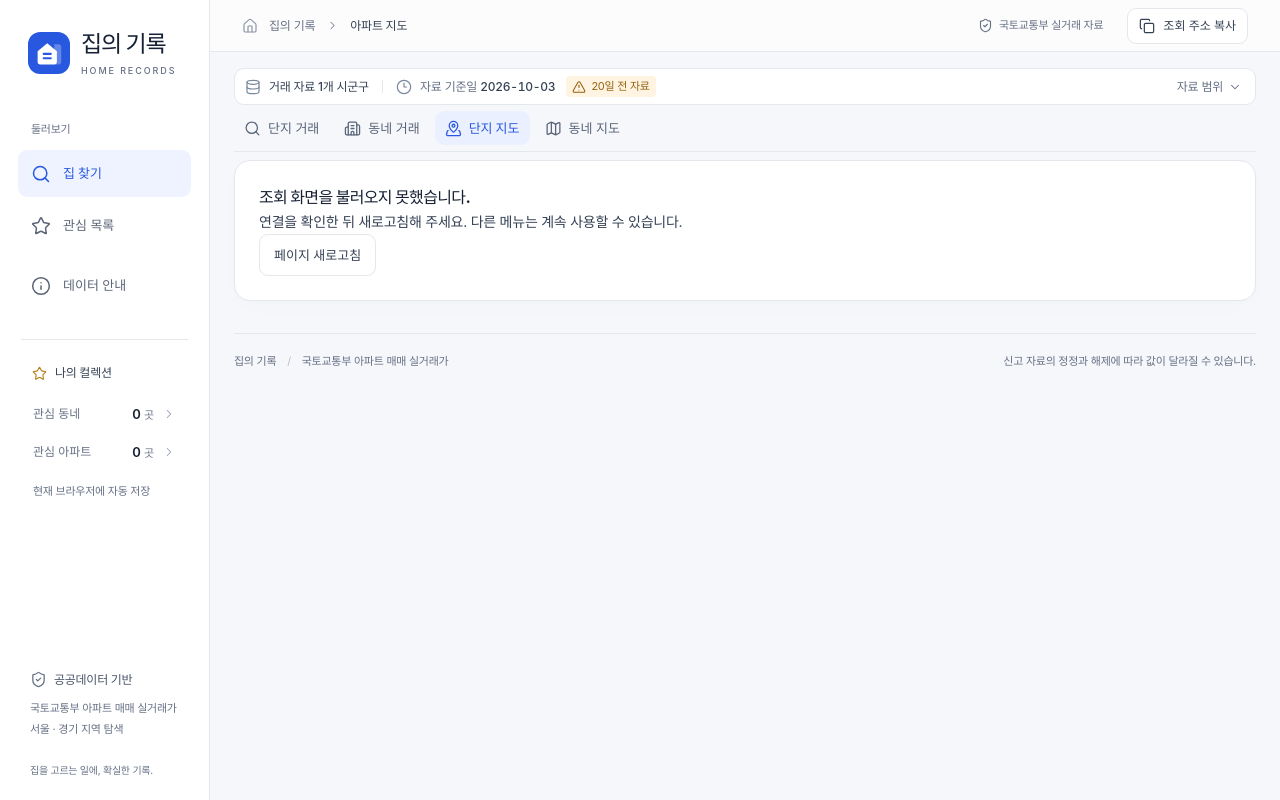
Test: keeps navigation and a reload action when a screen fails
Expected: the button "페이지 새로고침" is shown, x1=259 y1=234 x2=376 y2=276
Expected: the navigation bar named "주요 메뉴" is shown, x1=18 y1=150 x2=191 y2=309
Click the button "데이터 안내" at (104, 286), box x1=18 y1=262 x2=191 y2=309
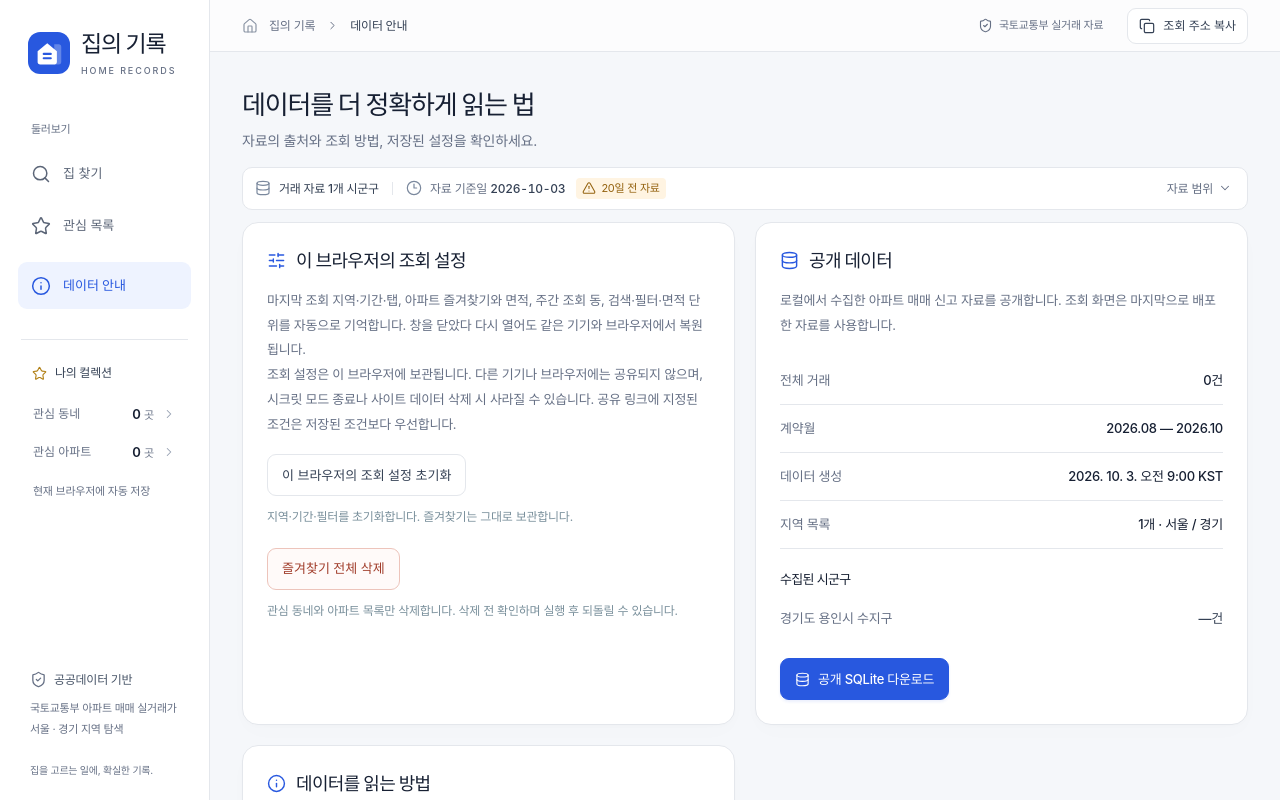
Result: the button "이 브라우저의 조회 설정 초기화" is shown at x1=267 y1=454 x2=466 y2=496
Result: the button "페이지 새로고침" is gone
